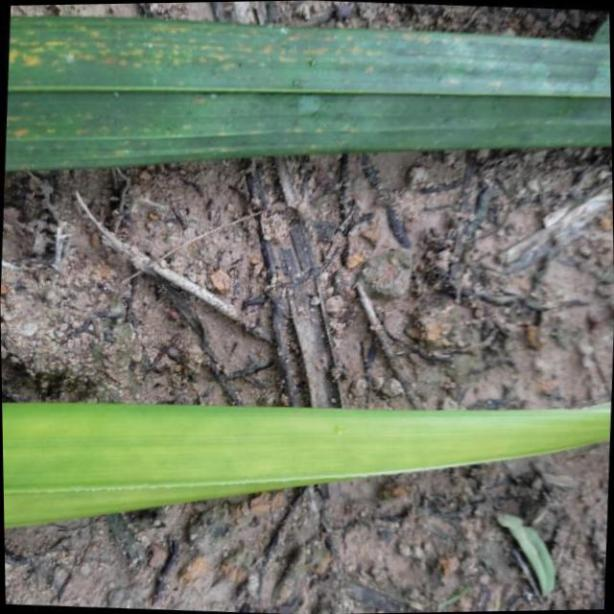nitrogen: (0, 397, 614, 529)
